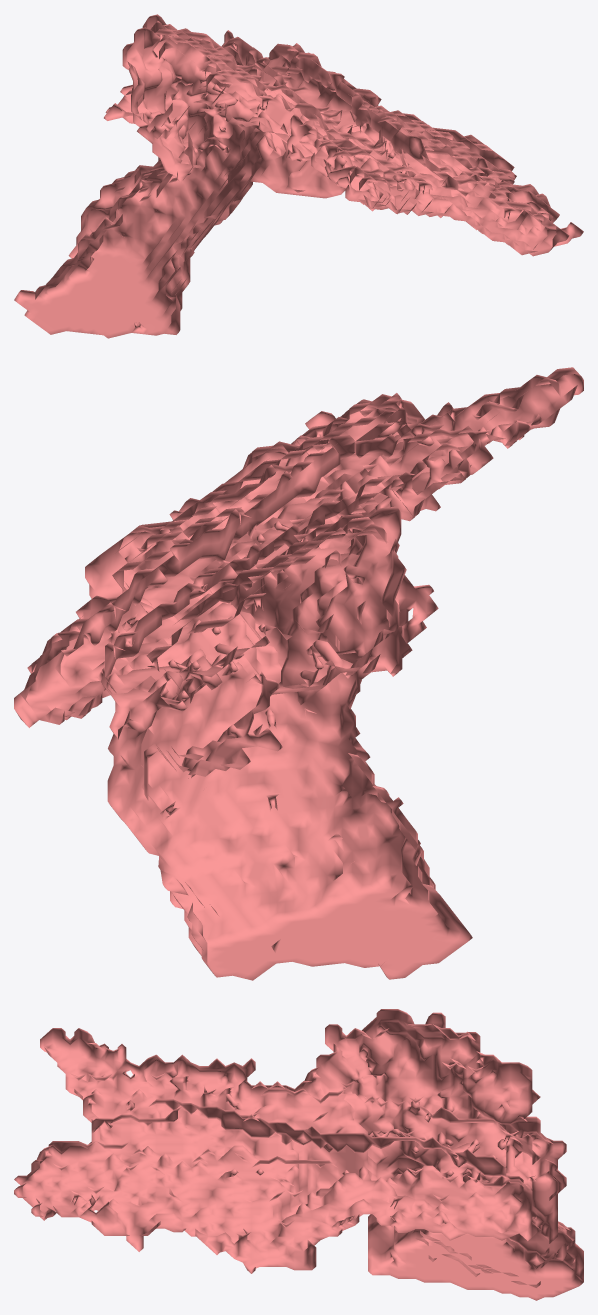
File: osteocyte_2.glb
3 renders of one model, top to bottom at view 1: azimuth 30°, elevation 25°; view 2: azimuth 150°, elevation 25°; view 3: azimuth 270°, elevation 25°, orthographic. The views are drawn at different scales.
Visible parts, largest first — view 1: osteocyte_2; view 2: osteocyte_2; view 3: osteocyte_2.
Boxes of the visible parts, x1=… form: osteocyte_2: x1=14, y1=14, x2=583, y2=338; osteocyte_2: x1=14, y1=367, x2=583, y2=980; osteocyte_2: x1=14, y1=1009, x2=583, y2=1300.
Size of the model in its own units: 22.63 by 16.37 by 31.78.
